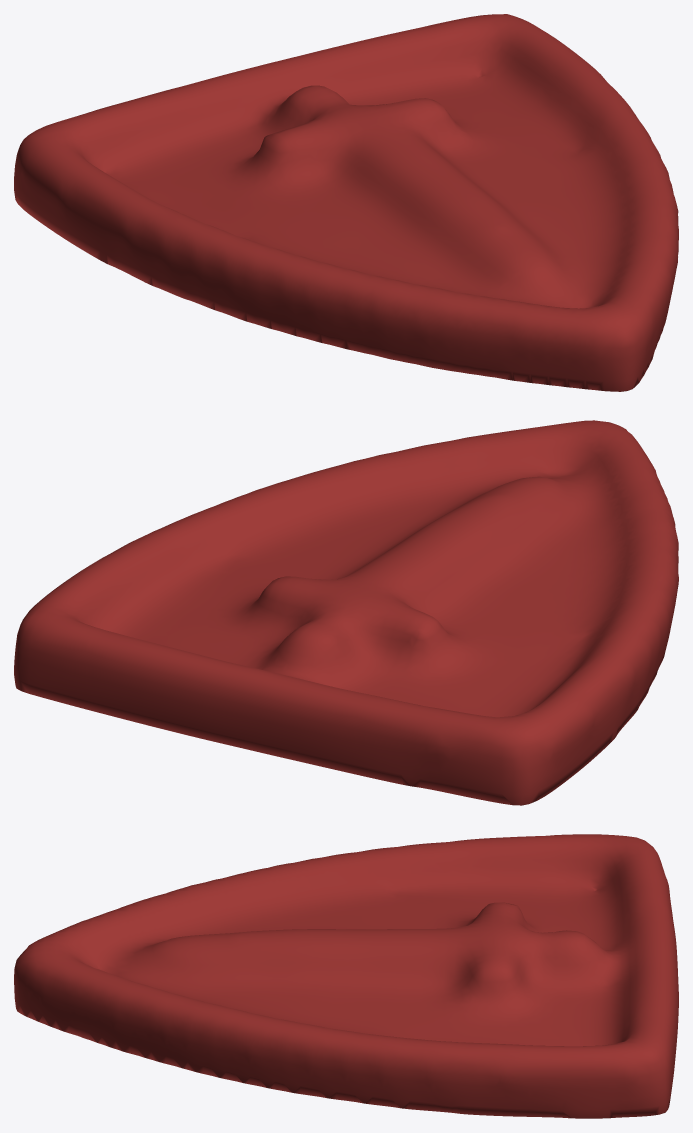
The model's file is decoration-warrior.glb.
3 views of the same model, one above another, from view 1: azimuth 30°, elevation 25°; view 2: azimuth 150°, elevation 25°; view 3: azimuth 270°, elevation 25° (orthographic). The views are drawn at different scales.
Parts seen in each view (by area): view 1: decoration_warrior; view 2: decoration_warrior; view 3: decoration_warrior.
Boxes of the visible parts, x1,y1,x2,y2 form: decoration_warrior: (14, 14, 678, 391); decoration_warrior: (14, 420, 678, 805); decoration_warrior: (14, 834, 678, 1118).
Bounding box in the file's own units: 0.158 × 0.0244 × 0.1917.
